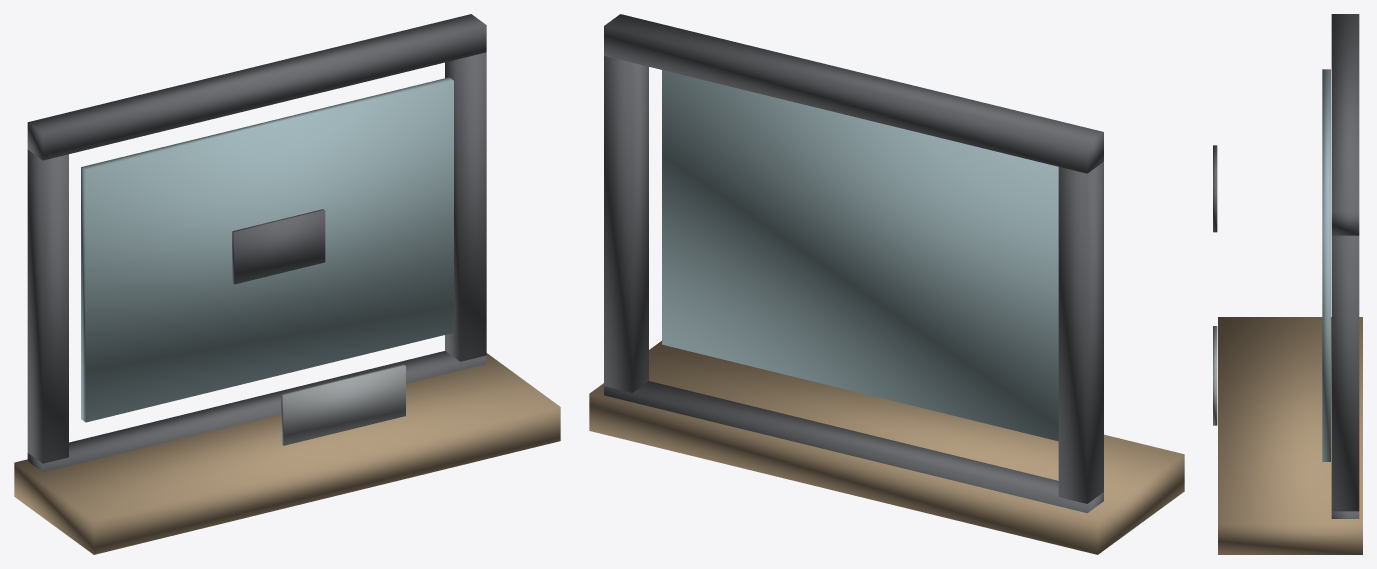
File: service_window__weathered.glb
3 views of the same model, side by side, from view 1: azimuth 30°, elevation 25°; view 2: azimuth 150°, elevation 25°; view 3: azimuth 270°, elevation 25° (orthographic). The views are drawn at different scales.
Parts seen in each view (by area): view 1: world; view 2: world; view 3: world.
Boxes of the visible parts, x1,y1,x2,y2 form: world: (14, 14, 560, 554); world: (589, 14, 1184, 554); world: (1213, 14, 1362, 554).
Size of the model in its own units: 1.42 by 1.08 by 0.434.
